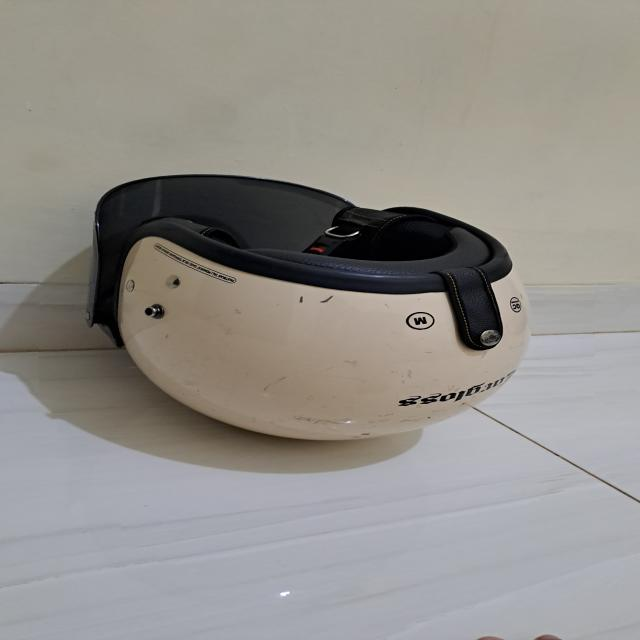Helm: (64, 163, 543, 451)
